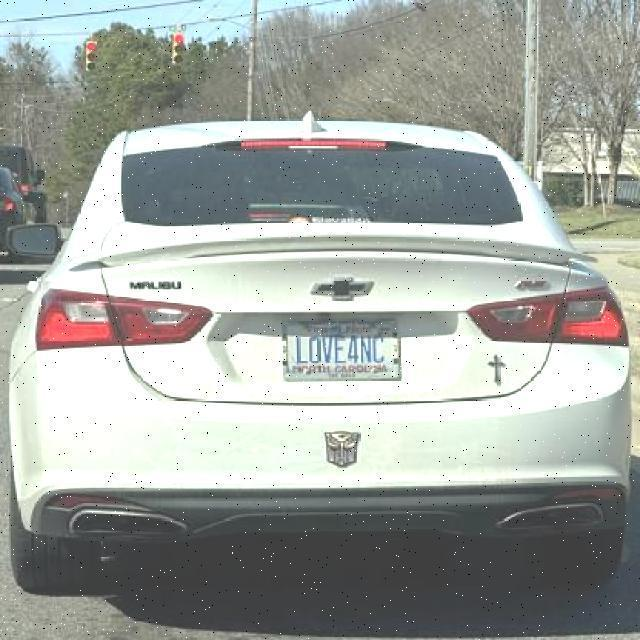LicensePlate: (280, 317, 399, 380)
